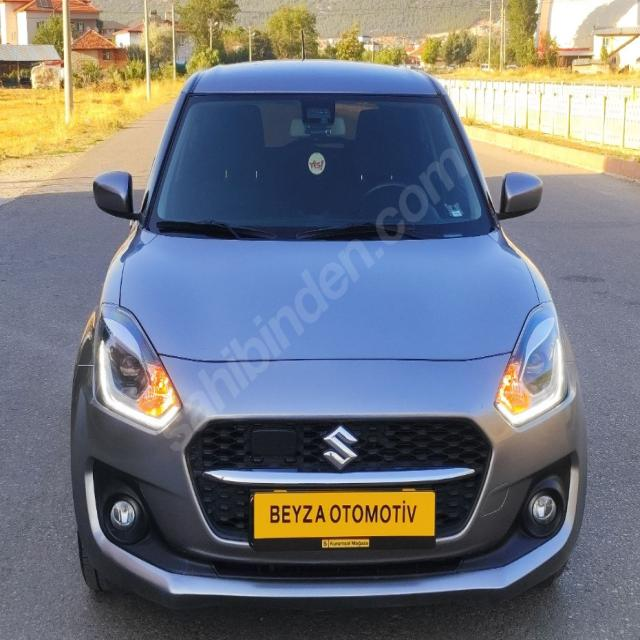suzuki: (318, 421, 359, 473)
